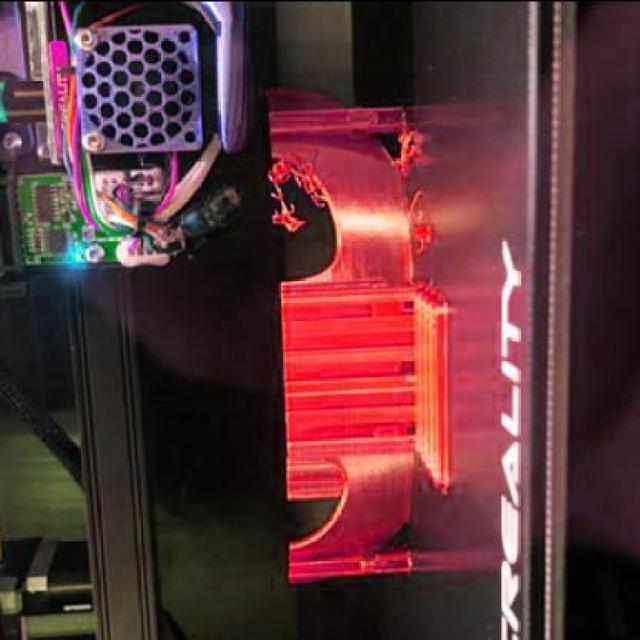Spaghetti: (266, 154, 334, 231), (402, 187, 436, 253), (392, 117, 414, 178)
